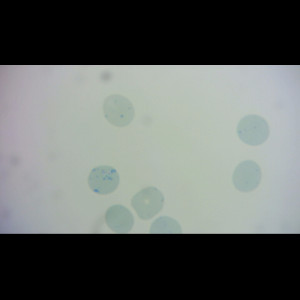aggregate reticulocyte: (86, 164, 120, 195)
erythrocyte: (103, 203, 137, 234)
punctate reticulocyte: (129, 185, 166, 221), (101, 93, 136, 128), (235, 113, 269, 147), (230, 159, 262, 193)
